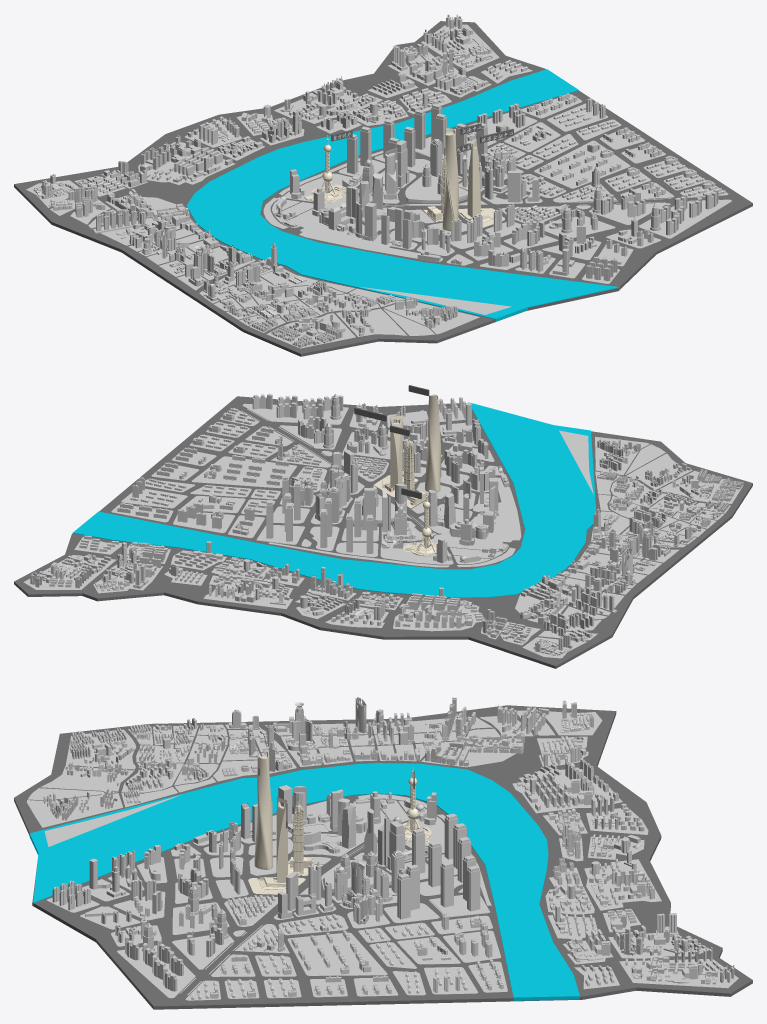
Rendered from shanghaiDraco.gltf.
3 views of the same model, one above another, from view 1: azimuth 30°, elevation 25°; view 2: azimuth 150°, elevation 25°; view 3: azimuth 270°, elevation 25° (orthographic). The views are drawn at different scales.
Parts seen in each view (by area): view 1: Shanghai-09-Floor, Shanghai-08-River, Shanghai-01, Shanghai-06_city_0 (×2), Shanghai-05, Shanghai-03, Shanghai-04, Shanghai-07, Shanghai-02, 01-shanghaizhongxindasha, 02-huanqiujinrongzhongxin_huanqiujinrongzhongxin_0, 04-dongfangmingzhu_dongfangmingzhu_0 (+1 smaller); view 2: Shanghai-09-Floor, Shanghai-08-River, Shanghai-01, Shanghai-06_city_0 (×2), Shanghai-05, Shanghai-04, Shanghai-03, Shanghai-07, Shanghai-02, 01-shanghaizhongxindasha, 02-huanqiujinrongzhongxin_huanqiujinrongzhongxin_0, Text (+2 smaller); view 3: Shanghai-09-Floor, Shanghai-08-River, Shanghai-01, Shanghai-06_city_0 (×2), Shanghai-05, Shanghai-03, Shanghai-04, Shanghai-07, Shanghai-02, 01-shanghaizhongxindasha, 02-huanqiujinrongzhongxin_huanqiujinrongzhongxin_0, 03-jinmaodasha (+1 smaller).
Part boxes in pixels (x1=…): Shanghai-09-Floor: x1=14, y1=21, x2=752, y2=356; Shanghai-08-River: x1=186, y1=69, x2=619, y2=321; Shanghai-01: x1=263, y1=103, x2=570, y2=261; Shanghai-06_city_0 (×2): x1=26, y1=14, x2=532, y2=215; Shanghai-05: x1=199, y1=243, x2=511, y2=348; Shanghai-03: x1=446, y1=186, x2=731, y2=283; Shanghai-04: x1=454, y1=93, x2=665, y2=188; Shanghai-07: x1=70, y1=186, x2=255, y2=290; Shanghai-02: x1=553, y1=155, x2=728, y2=203; 01-shanghaizhongxindasha: x1=442, y1=128, x2=458, y2=231; 02-huanqiujinrongzhongxin_huanqiujinrongzhongxin_0: x1=458, y1=138, x2=504, y2=227; 04-dongfangmingzhu_dongfangmingzhu_0: x1=304, y1=135, x2=346, y2=203; Shanghai-09-Floor: x1=14, y1=396, x2=752, y2=668; Shanghai-08-River: x1=73, y1=402, x2=596, y2=598; Shanghai-01: x1=256, y1=449, x2=521, y2=567; Shanghai-06_city_0 (×2): x1=23, y1=535, x2=597, y2=658; Shanghai-05: x1=559, y1=430, x2=743, y2=547; Shanghai-04: x1=111, y1=447, x2=296, y2=538; Shanghai-03: x1=242, y1=393, x2=503, y2=475; Shanghai-07: x1=515, y1=528, x2=679, y2=630; Shanghai-02: x1=190, y1=408, x2=331, y2=467; 01-shanghaizhongxindasha: x1=425, y1=394, x2=440, y2=492; 02-huanqiujinrongzhongxin_huanqiujinrongzhongxin_0: x1=374, y1=415, x2=418, y2=496; Text: x1=354, y1=385, x2=429, y2=498; Shanghai-09-Floor: x1=14, y1=705, x2=752, y2=1009; Shanghai-08-River: x1=29, y1=763, x2=579, y2=1000; Shanghai-01: x1=193, y1=785, x2=491, y2=935; Shanghai-06_city_0 (×2): x1=512, y1=700, x2=738, y2=989; Shanghai-05: x1=26, y1=709, x2=296, y2=846; Shanghai-03: x1=47, y1=842, x2=246, y2=998; Shanghai-04: x1=287, y1=912, x2=507, y2=997; Shanghai-07: x1=265, y1=697, x2=533, y2=767; Shanghai-02: x1=185, y1=924, x2=301, y2=1000; 01-shanghaizhongxindasha: x1=254, y1=751, x2=272, y2=869; 02-huanqiujinrongzhongxin_huanqiujinrongzhongxin_0: x1=248, y1=796, x2=305, y2=894; 03-jinmaodasha: x1=288, y1=799, x2=322, y2=875.
Bounding box in the file's own units: 2.3 × 0.4157 × 2.38.
